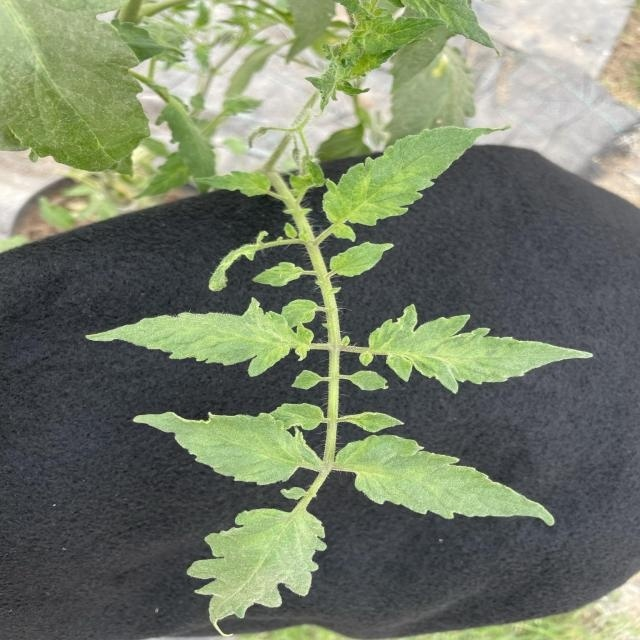T_L_R: (1, 2, 151, 175), (321, 128, 485, 265), (336, 434, 546, 520), (188, 509, 328, 630), (88, 304, 298, 379), (134, 414, 323, 486), (409, 329, 593, 394), (369, 306, 418, 355), (331, 244, 394, 277), (199, 172, 271, 197), (271, 405, 324, 431), (339, 414, 404, 434), (254, 264, 304, 287)
T_S_R: (286, 206, 349, 511)
